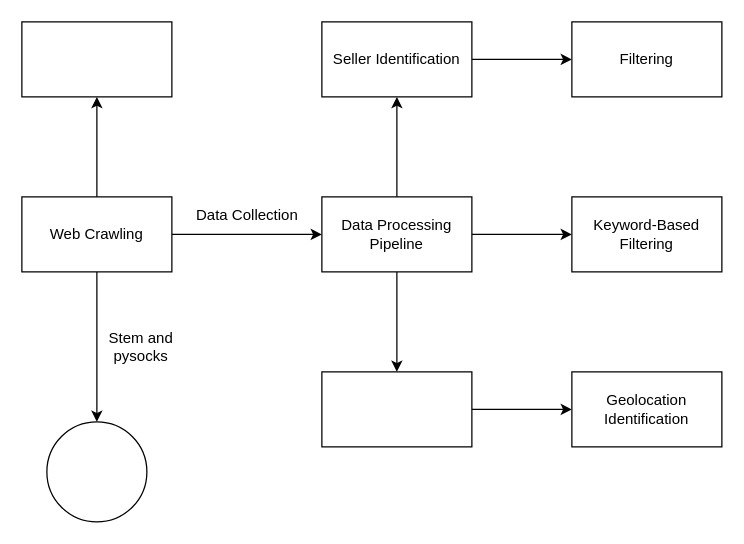
This 744x544 diagram has some shape labels left out. Here are the shapes that lost their labels. From the top down, the box of each, then its label:
(21, 21, 172, 97): VPN connection
(321, 371, 472, 447): IP detail retrieval
(46, 421, 147, 522): Dark Web
